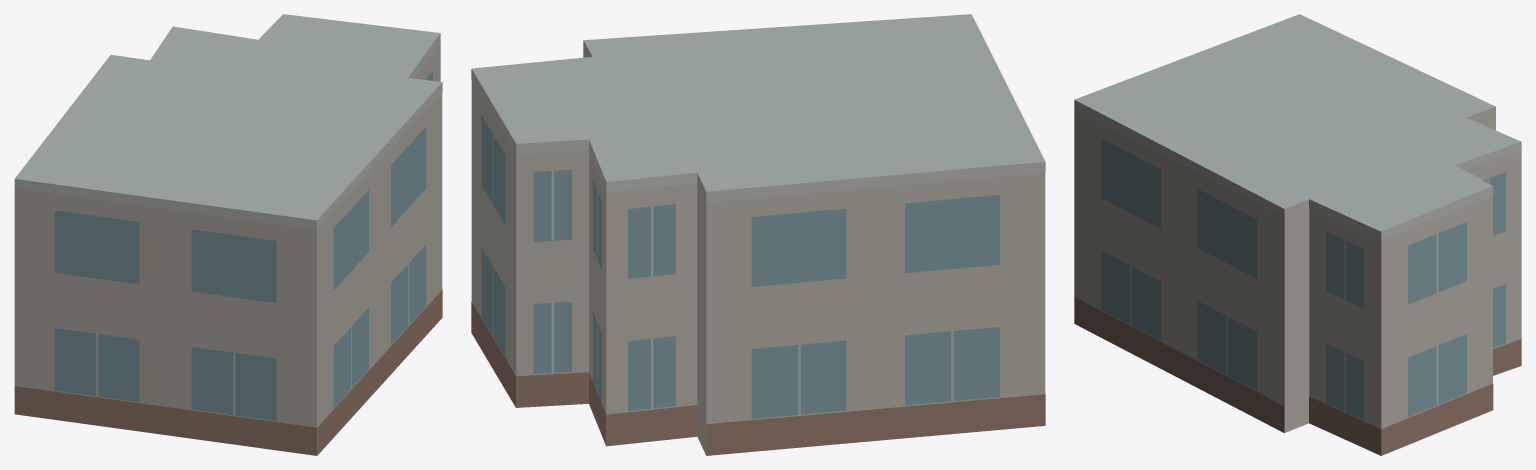
File: survey-upis-32602610.glb
3 renders of one model, left to right at view 1: azimuth 30°, elevation 25°; view 2: azimuth 150°, elevation 25°; view 3: azimuth 270°, elevation 25°, orthographic. The views are drawn at different scales.
Parts seen in each view (by area): view 1: survey-upis-32602610.tmp; view 2: survey-upis-32602610.tmp; view 3: survey-upis-32602610.tmp.
Part boxes in pixels (x1,y1,x2,y2): survey-upis-32602610.tmp: (14,14,442,455); survey-upis-32602610.tmp: (471,14,1045,455); survey-upis-32602610.tmp: (1074,14,1521,455).
Size of the model in its own units: 12.72 by 6.1 by 11.04.
